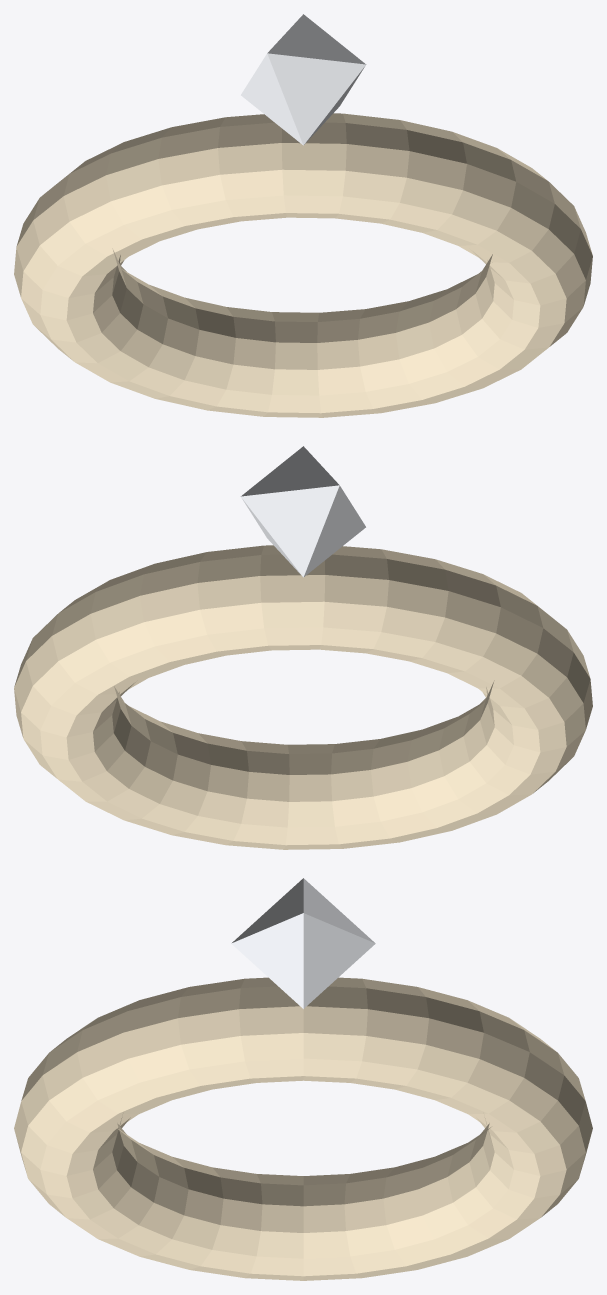
File: demo-embed-ring.glb
3 views of the same model, one above another, from view 1: azimuth 30°, elevation 25°; view 2: azimuth 150°, elevation 25°; view 3: azimuth 270°, elevation 25° (orthographic).
Parts seen in each view (by area): view 1: Metal 1, Gem 1; view 2: Metal 1, Gem 1; view 3: Metal 1, Gem 1.
Boxes of the visible parts, x1=… form: Metal 1: x1=14, y1=113, x2=592, y2=417; Gem 1: x1=241, y1=14, x2=366, y2=145; Metal 1: x1=14, y1=545, x2=592, y2=849; Gem 1: x1=240, y1=446, x2=365, y2=577; Metal 1: x1=14, y1=977, x2=592, y2=1280; Gem 1: x1=231, y1=878, x2=375, y2=1008.
Size of the model in its own units: 1.76 by 1 by 1.76.
